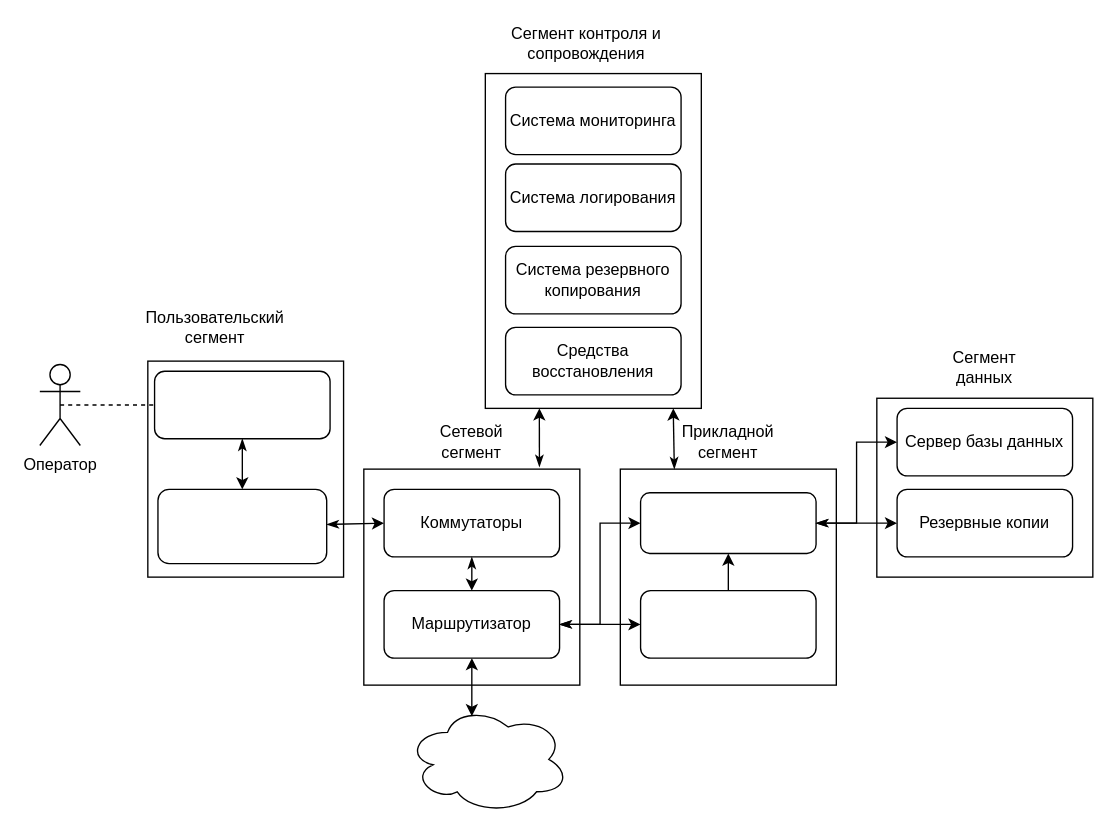
This 1116x837 diagram has some shape labels left out. Here are the shapes that lost their labels. From the top down, the box of each, then its label:
(153, 370, 330, 439): Автоматизированные места операторов
(157, 488, 327, 564): Терминалы сбора данных
(639, 491, 816, 554): Сервер приложения
(639, 589, 816, 658): Сервер сервисов интеграции
(406, 704, 569, 813): Внешние системы
